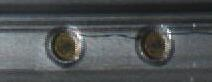joints: (135, 22, 176, 66), (45, 24, 85, 67)
